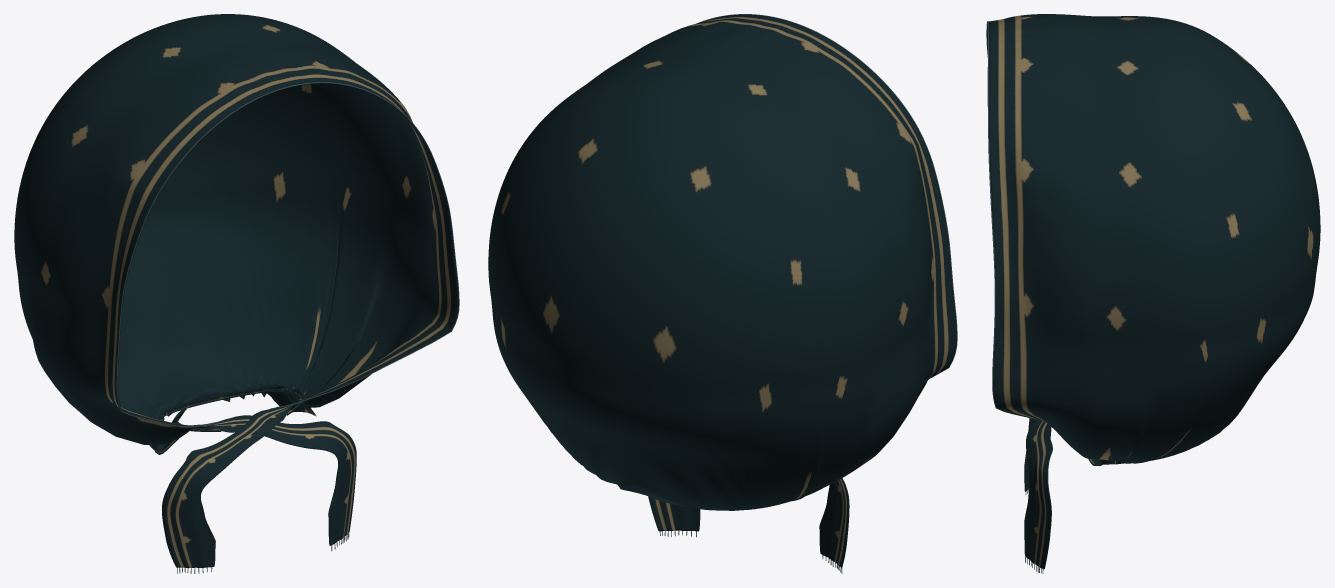
Rendered from Masculine-Masculine-taper-tshirt-pashmina250-headgear-a583abdd.glb.
The picture shows the model from 3 angles, left to right: view 1: azimuth 30°, elevation 25°; view 2: azimuth 150°, elevation 25°; view 3: azimuth 270°, elevation 25°; orthographic projection. The views are drawn at different scales.
Parts seen in each view (by area): view 1: 226 headgear / Headwear / continuous woven pashmina239, 226 headgear / Headwear / face edge239; view 2: 226 headgear / Headwear / continuous woven pashmina239, 226 headgear / Headwear / face edge239; view 3: 226 headgear / Headwear / continuous woven pashmina239, 226 headgear / Headwear / face edge239.
Part boxes in pixels (bbox=[...]): 226 headgear / Headwear / continuous woven pashmina239: bbox=[14, 14, 458, 567]; 226 headgear / Headwear / face edge239: bbox=[116, 82, 459, 427]; 226 headgear / Headwear / continuous woven pashmina239: bbox=[488, 14, 956, 568]; 226 headgear / Headwear / face edge239: bbox=[696, 14, 957, 377]; 226 headgear / Headwear / continuous woven pashmina239: bbox=[987, 14, 1320, 569]; 226 headgear / Headwear / face edge239: bbox=[986, 21, 1042, 420].
Bounding box in the file's own units: 1.07 × 1.4 × 0.8512.
3 materials, 1 textured.
